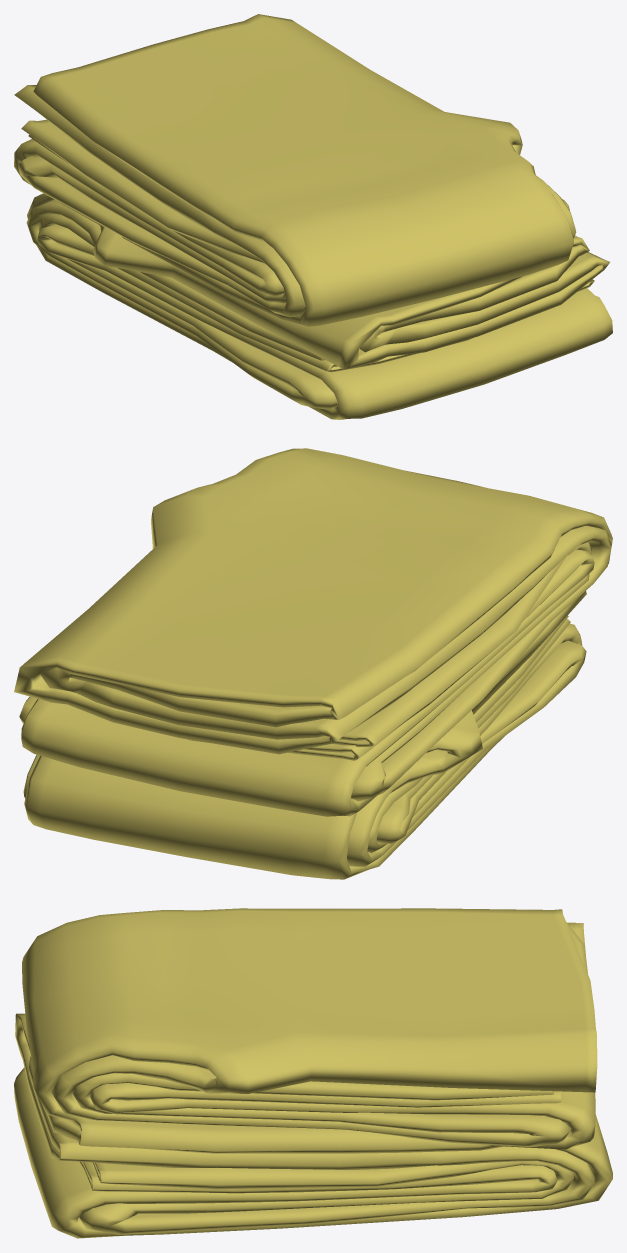
File: Folded_Pant03.fbx
3 views of the same model, one above another, from view 1: azimuth 30°, elevation 25°; view 2: azimuth 150°, elevation 25°; view 3: azimuth 270°, elevation 25° (orthographic). The views are drawn at different scales.
Parts seen in each view (by area): view 1: Folded_Pant03; view 2: Folded_Pant03; view 3: Folded_Pant03.
Boxes of the visible parts, <box> form: Folded_Pant03: <box>14,14,612,419</box>; Folded_Pant03: <box>14,448,612,879</box>; Folded_Pant03: <box>14,908,612,1238</box>.
Bounding box in the file's own units: 25.78 × 11.41 × 35.19.
